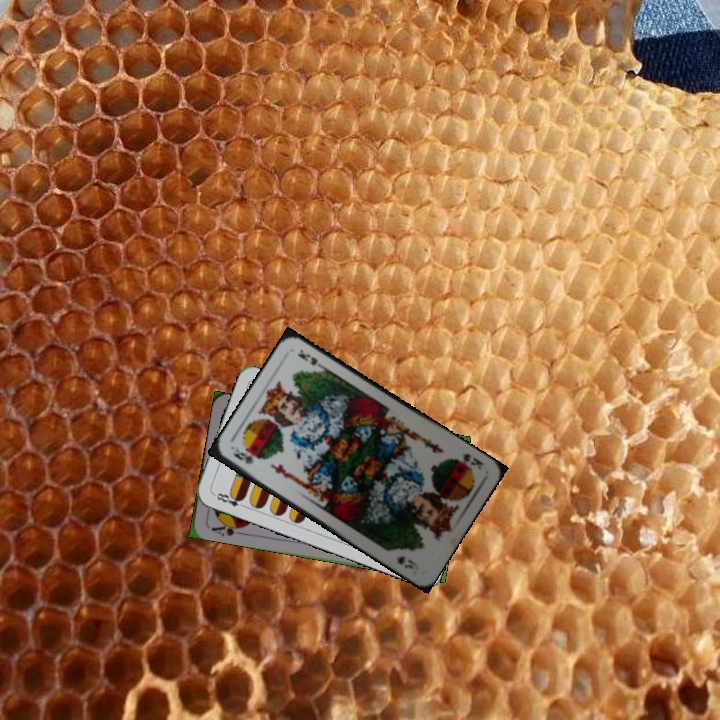E8: (210, 489, 249, 510)
SA: (208, 518, 247, 538)
SK: (451, 449, 486, 472), (229, 443, 256, 467)
